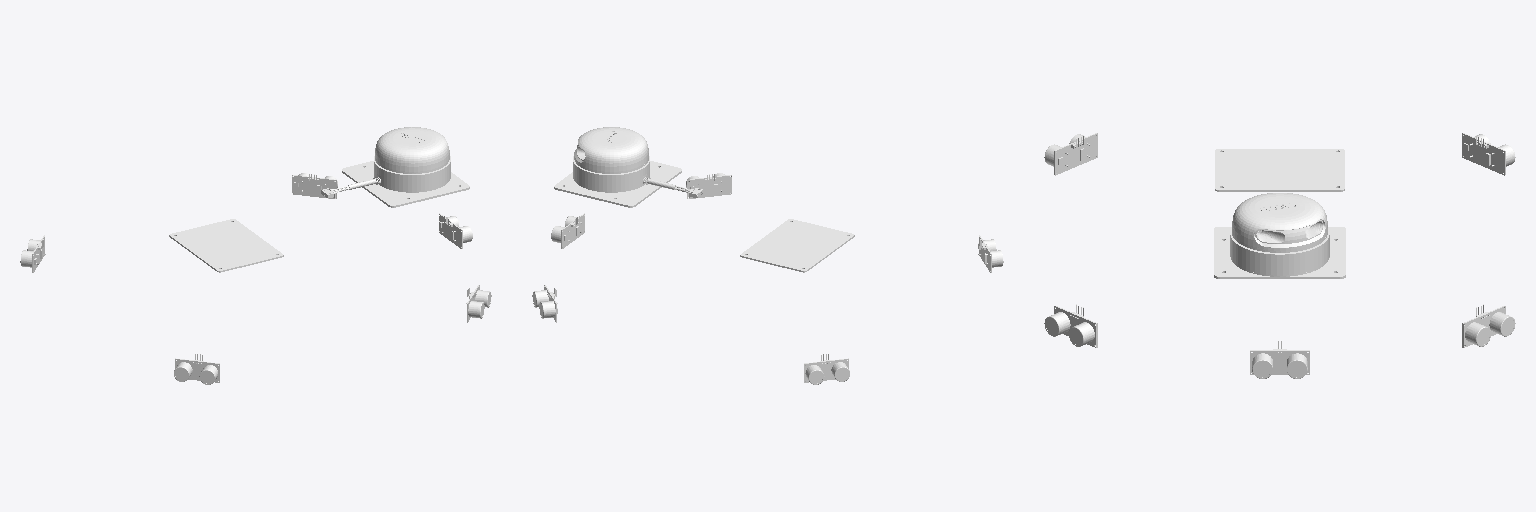
URDF robot description (xtark_description):
<?xml version="1.0" encoding="utf-8"?>
<!-- This URDF was automatically created by SolidWorks to URDF Exporter! Originally created by [author] ([email redacted]) 
     Commit Version: 1.6.0-1-g15f4949  Build Version: 1.6.7594.29634
     For more information, please see http://wiki.ros.org/sw_urdf_exporter -->
<robot
  name="xtark_description">
  <link
    name="base_link">
    <visual>
      <origin
        xyz="0 0 0"
        rpy="0 0 0" />
      <geometry>
        <mesh
          filename="package://xtark_description/meshes/base_link.STL" />
      </geometry>
      <material
        name="">
        <color
          rgba="0.89804 0.91765 0.92941 1" />
      </material>
    </visual>
    <collision>
      <origin
        xyz="0 0 0"
        rpy="0 0 0" />
      <geometry>
        <mesh
          filename="package://xtark_description/meshes/base_link.STL" />
      </geometry>
    </collision>
  </link>
   <link
          name="base_footprint"/>
  <joint
      name="base_footprint_joint"
      type="fixed">
      <origin
        xyz="0 0 -0.06"
        rpy="0 0 0" />
      <parent
        link="base_link" />
      <child
        link="base_footprint" />
  </joint>
  <link
    name="laser">
    <inertial>
      <origin
        xyz="-0.00140700524011977 0.000833758220548153 -0.010351045304507"
        rpy="0 0 0" />
      <mass
        value="0.0613730463460779" />
      <inertia
        ixx="3.12015849790788E-05"
        ixy="7.04150622406887E-07"
        ixz="-1.08649445088874E-07"
        iyy="2.64093008021745E-05"
        iyz="-5.42268690361595E-08"
        izz="5.61220060035833E-05" />
    </inertial>
    <visual>
      <origin
        xyz="0 0 0"
        rpy="0 0 0" />
      <geometry>
        <mesh
          filename="package://xtark_description/meshes/laser_link.STL" />
      </geometry>
      <material
        name="">
        <color
          rgba="1 1 1 1" />
      </material>
    </visual>
    <collision>
      <origin
        xyz="0 0 0"
        rpy="0 0 0" />
      <geometry>
        <mesh
          filename="package://xtark_description/meshes/laser_link.STL" />
      </geometry>
    </collision>
  </link>
  <joint
    name="laser_joint"
    type="fixed">
    <origin
      xyz="0.175 0 0.1235"
      rpy="0 0 0" />
    <parent
      link="base_link" />
    <child
      link="laser" />
    <axis
      xyz="0 0 0" />
  </joint>
  <link
    name="sonar0_link">
    <inertial>
      <origin
        xyz="0.00313195281454717 3.67042757588587E-05 0.000104130502142738"
        rpy="0 0 0" />
      <mass
        value="0.0061464228716814" />
      <inertia
        ixx="1.22261543132903E-06"
        ixy="1.48488855495956E-09"
        ixz="4.86527440808979E-09"
        iyy="2.31708371863193E-07"
        iyz="-7.84828158726977E-10"
        izz="1.20791259844664E-06" />
    </inertial>
    <visual>
      <origin
        xyz="0 0 0"
        rpy="0 0 0" />
      <geometry>
        <mesh
          filename="package://xtark_description/meshes/sonar0_link.STL" />
      </geometry>
      <material
        name="">
        <color
          rgba="1 1 1 1" />
      </material>
    </visual>
    <collision>
      <origin
        xyz="0 0 0"
        rpy="0 0 0" />
      <geometry>
        <mesh
          filename="package://xtark_description/meshes/sonar0_link.STL" />
      </geometry>
    </collision>
  </link>
  <joint
    name="sonar0_joint"
    type="fixed">
    <origin
      xyz="0.15556 0.15556 0.0302"
      rpy="0 0 0.7854" />
    <parent
      link="base_link" />
    <child
      link="sonar0_link" />
    <axis
      xyz="0 0 0" />
  </joint>
  <link
    name="sonar1_link">
    <inertial>
      <origin
        xyz="0.00313195281454715 3.67042757567909E-05 0.000104130502141156"
        rpy="0 0 0" />
      <mass
        value="0.00614642287168138" />
      <inertia
        ixx="1.22261543132902E-06"
        ixy="1.48488855496362E-09"
        ixz="4.86527440808988E-09"
        iyy="2.31708371863192E-07"
        iyz="-7.84828158716788E-10"
        izz="1.20791259844664E-06" />
    </inertial>
    <visual>
      <origin
        xyz="0 0 0"
        rpy="0 0 0" />
      <geometry>
        <mesh
          filename="package://xtark_description/meshes/sonar1_link.STL" />
      </geometry>
      <material
        name="">
        <color
          rgba="1 1 1 1" />
      </material>
    </visual>
    <collision>
      <origin
        xyz="0 0 0"
        rpy="0 0 0" />
      <geometry>
        <mesh
          filename="package://xtark_description/meshes/sonar1_link.STL" />
      </geometry>
    </collision>
  </link>
  <joint
    name="sonar1_joint"
    type="fixed">
    <origin
      xyz="0.22 0 0.0302"
      rpy="0 0 0" />
    <parent
      link="base_link" />
    <child
      link="sonar1_link" />
    <axis
      xyz="0 0 0" />
  </joint>
  <link
    name="sonar2_link">
    <inertial>
      <origin
        xyz="0.00313195281454734 3.67042757566938E-05 0.000104130502141524"
        rpy="0 0 0" />
      <mass
        value="0.00614642287168139" />
      <inertia
        ixx="1.22261543132902E-06"
        ixy="1.48488855495956E-09"
        ixz="4.86527440809172E-09"
        iyy="2.31708371863192E-07"
        iyz="-7.84828158839553E-10"
        izz="1.20791259844664E-06" />
    </inertial>
    <visual>
      <origin
        xyz="0 0 0"
        rpy="0 0 0" />
      <geometry>
        <mesh
          filename="package://xtark_description/meshes/sonar2_link.STL" />
      </geometry>
      <material
        name="">
        <color
          rgba="1 1 1 1" />
      </material>
    </visual>
    <collision>
      <origin
        xyz="0 0 0"
        rpy="0 0 0" />
      <geometry>
        <mesh
          filename="package://xtark_description/meshes/sonar2_link.STL" />
      </geometry>
    </collision>
  </link>
  <joint
    name="sonar2_joint"
    type="fixed">
    <origin
      xyz="0.15556 -0.15556 0.0302"
      rpy="0 0 -0.7854" />
    <parent
      link="base_link" />
    <child
      link="sonar2_link" />
    <axis
      xyz="0 0 0" />
  </joint>
  <link
    name="sonar3_link">
    <inertial>
      <origin
        xyz="0.00313195281454637 3.67042757553615E-05 0.000104130502225339"
        rpy="0 0 0" />
      <mass
        value="0.00614642287168139" />
      <inertia
        ixx="1.22261543132894E-06"
        ixy="1.48488855499123E-09"
        ixz="4.86527440820946E-09"
        iyy="2.31708371863185E-07"
        iyz="-7.84828154389274E-10"
        izz="1.20791259844672E-06" />
    </inertial>
    <visual>
      <origin
        xyz="0 0 0"
        rpy="0 0 0" />
      <geometry>
        <mesh
          filename="package://xtark_description/meshes/sonar3_link.STL" />
      </geometry>
      <material
        name="">
        <color
          rgba="1 1 1 1" />
      </material>
    </visual>
    <collision>
      <origin
        xyz="0 0 0"
        rpy="0 0 0" />
      <geometry>
        <mesh
          filename="package://xtark_description/meshes/sonar3_link.STL" />
      </geometry>
    </collision>
  </link>
  <joint
    name="sonar3_joint"
    type="fixed">
    <origin
      xyz="-0.15556 -0.15556 0.0302"
      rpy="0 0 -2.3562" />
    <parent
      link="base_link" />
    <child
      link="sonar3_link" />
    <axis
      xyz="0 0 0" />
  </joint>
  <link
    name="sonar4_link">
    <inertial>
      <origin
        xyz="0.00313195281454703 3.67042757580816E-05 0.00010413050214237"
        rpy="0 0 0" />
      <mass
        value="0.0061464228716814" />
      <inertia
        ixx="1.22261543132903E-06"
        ixy="1.48488855495932E-09"
        ixz="4.865274408088E-09"
        iyy="2.31708371863193E-07"
        iyz="-7.84828158594938E-10"
        izz="1.20791259844664E-06" />
    </inertial>
    <visual>
      <origin
        xyz="0 0 0"
        rpy="0 0 0" />
      <geometry>
        <mesh
          filename="package://xtark_description/meshes/sonar4_link.STL" />
      </geometry>
      <material
        name="">
        <color
          rgba="1 1 1 1" />
      </material>
    </visual>
    <collision>
      <origin
        xyz="0 0 0"
        rpy="0 0 0" />
      <geometry>
        <mesh
          filename="package://xtark_description/meshes/sonar4_link.STL" />
      </geometry>
    </collision>
  </link>
  <joint
    name="sonar4_joint"
    type="fixed">
    <origin
      xyz="-0.15556 0.15556 0.0302"
      rpy="0 0 2.3562" />
    <parent
      link="base_link" />
    <child
      link="sonar4_link" />
    <axis
      xyz="0 0 0" />
  </joint>
  <link
    name="imu_link">
    <inertial>
      <origin
        xyz="-0.017 0.00599999999999995 -0.000800000000000009"
        rpy="0 0 0" />
      <mass
        value="0.0115393670801753" />
      <inertia
        ixx="5.22832974000795E-06"
        ixy="-1.29246970711411E-22"
        ixz="6.96721951491454E-25"
        iyy="9.16033038596997E-06"
        iyz="9.12554295159614E-25"
        izz="1.43837366626904E-05" />
    </inertial>
    <visual>
      <origin
        xyz="0 0 0"
        rpy="0 0 0" />
      <geometry>
        <mesh
          filename="package://xtark_description/meshes/imu_link.STL" />
      </geometry>
      <material
        name="">
        <color
          rgba="1 1 1 1" />
      </material>
    </visual>
    <collision>
      <origin
        xyz="0 0 0"
        rpy="0 0 0" />
      <geometry>
        <mesh
          filename="package://xtark_description/meshes/imu_link.STL" />
      </geometry>
    </collision>
  </link>
  <joint
    name="imu_joint"
    type="fixed">
    <origin
      xyz="-0.039 -0.017 0.0742"
      rpy="0 0 -1.5708" />
    <parent
      link="base_link" />
    <child
      link="imu_link" />
    <axis
      xyz="0 0 0" />
  </joint>
  <link
    name="camera_link">
    <inertial>
      <origin
        xyz="0 0 0"
        rpy="0 0 0" />
      <mass
        value="0" />
      <inertia
        ixx="0"
        ixy="0"
        ixz="0"
        iyy="0"
        iyz="0"
        izz="0" />
    </inertial>
    <visual>
      <origin
        xyz="0 0 0"
        rpy="0 0 0" />
      <!--geometry>
        <mesh
          filename="package://xtark_description/meshes/camera_link.STL" />
      </geometry-->
      <material
        name="">
        <color
          rgba="1 1 1 1" />
      </material>
    </visual>
    <collision>
      <origin
        xyz="0 0 0"
        rpy="0 0 0" />
      <geometry>
        <mesh
          filename="package://xtark_description/meshes/camera_link.STL" />
      </geometry>
    </collision>
  </link>
  <joint
    name="camera_joint"
    type="fixed">
    <origin
      xyz="0.21091 0 0.17748"
      rpy="0 -0.34907 0" />
    <parent
      link="base_link" />
    <child
      link="camera_link" />
    <axis
      xyz="0 0 0" />
  </joint>
</robot>

--- Facts derived from the render (not from the file) ---
The picture shows the robot from 3 angles, left to right: view 1: azimuth 30°, elevation 25°; view 2: azimuth 150°, elevation 25°; view 3: azimuth 270°, elevation 25°; orthographic projection.
Model xtark_description with 10 links and 9 joints (9 fixed), rooted at base_link, posed every joint at zero.
Visible links, largest first — view 1: laser, imu_link, sonar3_link, sonar0_link, sonar1_link, sonar2_link, sonar4_link; view 2: laser, imu_link, sonar4_link, sonar2_link, sonar1_link, sonar0_link, sonar3_link; view 3: laser, imu_link, sonar1_link, sonar0_link, sonar2_link, sonar3_link, sonar4_link.
Boxes of the visible links, x1,y1,x2,y2 form: laser: [321, 127, 469, 207]; imu_link: [169, 219, 283, 272]; sonar3_link: [174, 354, 219, 384]; sonar0_link: [292, 173, 337, 198]; sonar1_link: [439, 213, 472, 248]; sonar2_link: [466, 285, 491, 322]; sonar4_link: [20, 235, 45, 272]; laser: [554, 127, 702, 207]; imu_link: [740, 219, 854, 272]; sonar4_link: [804, 354, 849, 384]; sonar2_link: [686, 173, 731, 198]; sonar1_link: [551, 213, 584, 248]; sonar0_link: [532, 285, 557, 322]; sonar3_link: [978, 235, 1003, 272]; laser: [1214, 193, 1345, 278]; imu_link: [1215, 149, 1344, 191]; sonar1_link: [1250, 341, 1309, 378]; sonar0_link: [1462, 304, 1515, 347]; sonar2_link: [1044, 304, 1097, 347]; sonar3_link: [1044, 133, 1097, 175]; sonar4_link: [1462, 133, 1515, 175].
Size in the robot's own frame: 0.4085 by 0.3555 by 0.1198 metres.
7 mesh visuals loaded from 8 distinct referenced files (7 binary STL); not drawn: 1 (reference not matched to a file when rendering).
